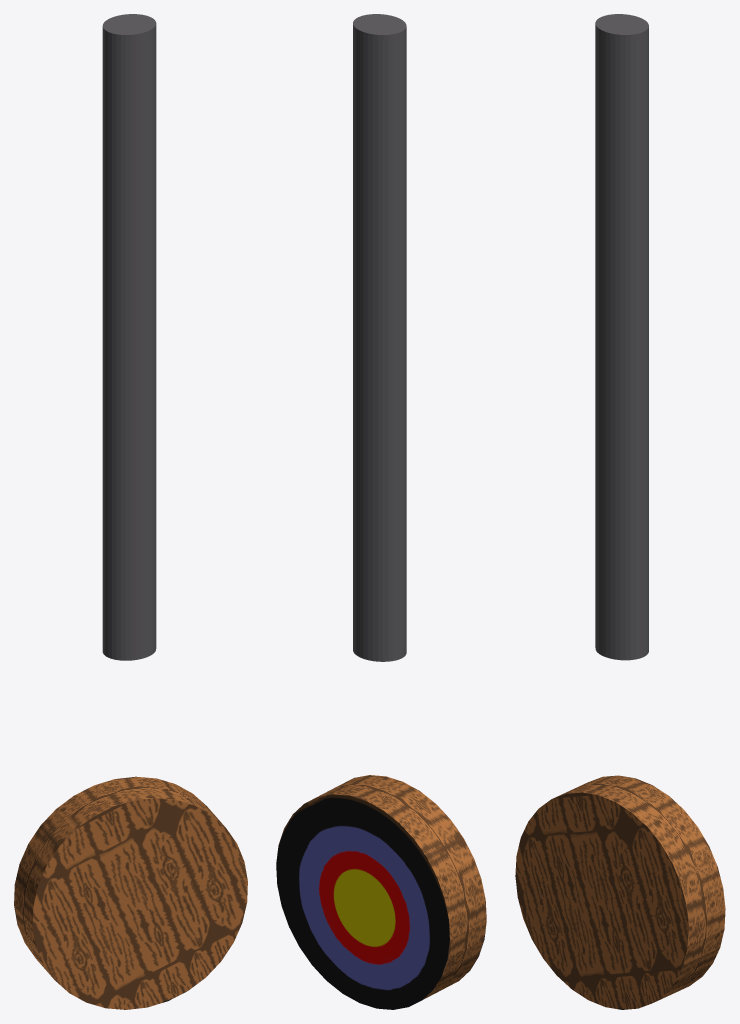
The model's file is target3D(o -).fbx.
3 renders of one model, left to right at view 1: azimuth 30°, elevation 25°; view 2: azimuth 150°, elevation 25°; view 3: azimuth 330°, elevation 25°, orthographic.
Parts seen in each view (by area): view 1: Cylinder.001; view 2: Cylinder.001; view 3: Cylinder.001.
Boxes of the visible parts, x1,y1,x2,y2 form: Cylinder.001: (14,14,247,1009); Cylinder.001: (276,14,486,1009); Cylinder.001: (515,14,725,1009).
Bounding box in the file's own units: 204 × 930 × 84.92.
2 materials, 1 textured.
